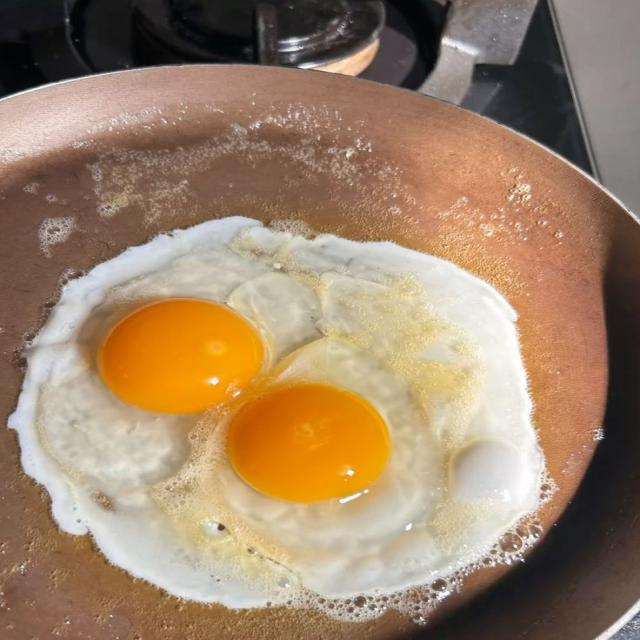fryed egg: (11, 218, 543, 606)
